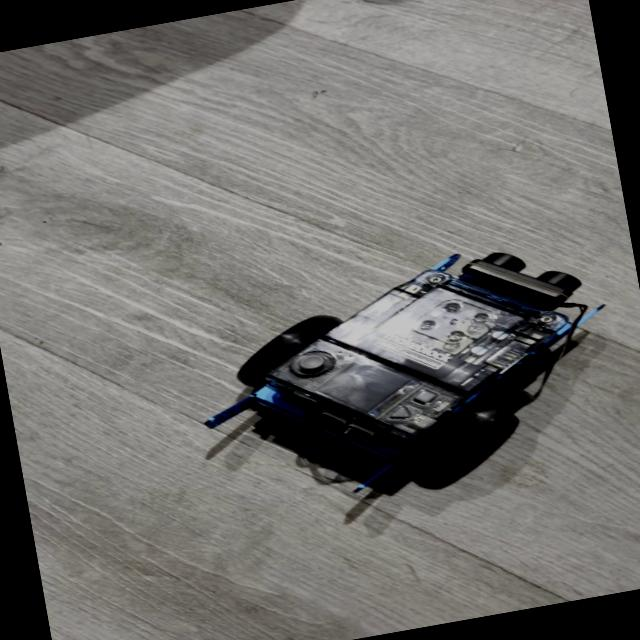mbot-detection: (172, 217, 640, 524)
